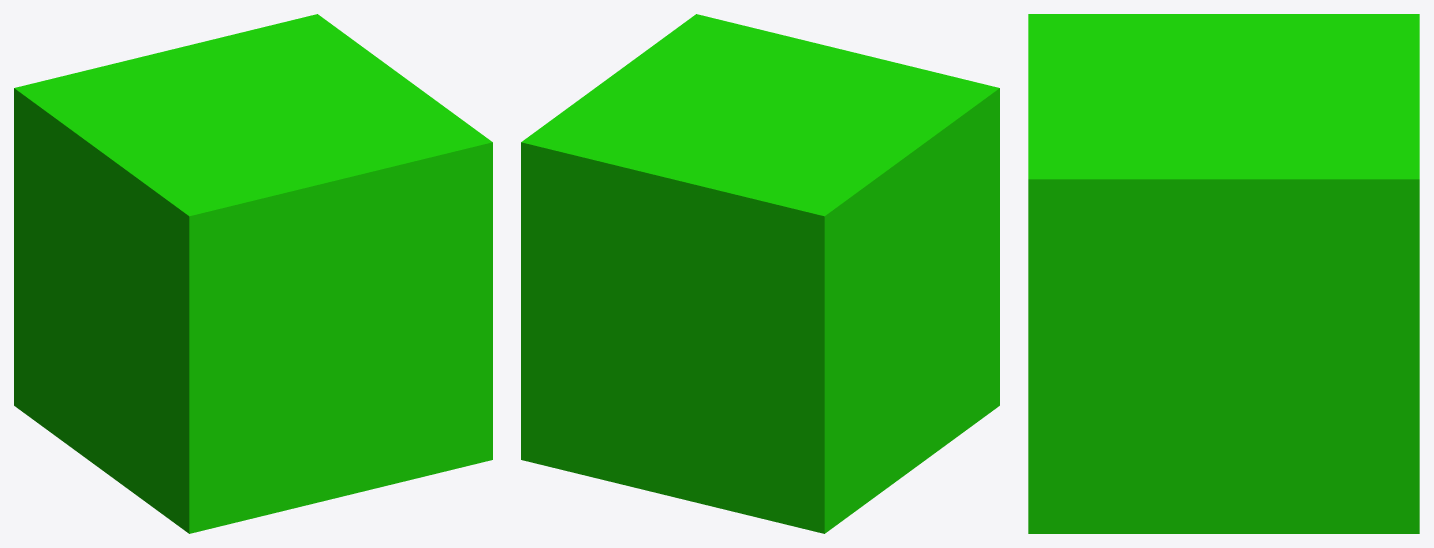
The model's file is room.glb.
3 views of the same model, side by side, from view 1: azimuth 30°, elevation 25°; view 2: azimuth 150°, elevation 25°; view 3: azimuth 270°, elevation 25° (orthographic). The views are drawn at different scales.
Visible parts, largest first — view 1: Cube; view 2: Cube; view 3: Cube.
Boxes of the visible parts, box(x1,y1,x2,y2) form: Cube: box(14, 14, 492, 533); Cube: box(521, 14, 999, 533); Cube: box(1028, 14, 1419, 533).
Size of the model in its own units: 20.6 by 20.6 by 20.6.
